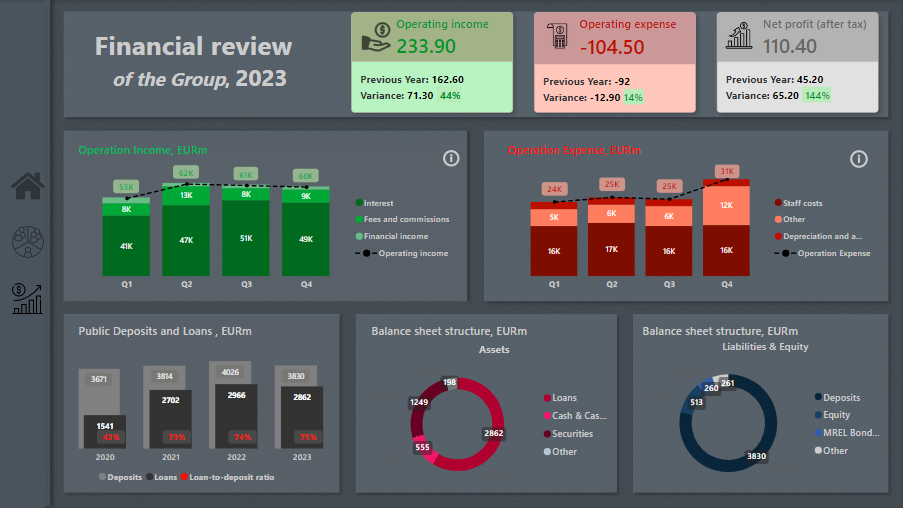

The dashboard page shown, as its layout file describes it:
{"tool":"powerbi","page":{"name":"Financial","canvas":[1280,720],"ordinal":2},"visuals":[{"type":"clusteredColumnChart","title":"Public Deposits and Loans , EURm","fields":{"Category":["Date.Year"],"Y":["Sum(Line. Deposits and borrowings from customers )","Sum(Line. Loans to public                   )","Sum(Line. Loan-to-deposit ratio             )"]},"box":[96,448,384,256],"z":0},{"type":"cardVisual","fields":{"Data":["Sum(KPI.Operating income           )","Sum(KPI.Operating expense          )","Sum(KPI.Net profit from continuous operations (after tax) )"]},"box":[480,0,784,176],"z":1000},{"type":"pieChart","title":"Balance sheet structure, EURm","fields":{"Y":["Sum(Liabilities& Equity2023.Deposits)","Sum(Liabilities& Equity2023.Equity)","Sum(Liabilities& Equity2023.MREL Bonds & Subordinated deb)","Sum(Liabilities& Equity2023.Other)"]},"box":[896,448,368,256],"z":2000},{"type":"textbox","box":[80,16,400,160],"z":3000},{"type":"lineStackedColumnComboChart","title":"Operation Expense, EURm","fields":{"Y":["Sum(OE. Staff costs           )","Sum(OE. Other operating ex... )","Sum(OE. Depreciation and a... )"],"Category":["OE.Quarter"],"Y2":["Sum(OE.Operation Expense)"]},"box":[704,192,560,240],"z":4000},{"type":"pieChart","title":"Balance sheet structure, EURm","fields":{"Y":["Sum(Liabilities& Equity2023.Deposits)","Sum(Liabilities& Equity2023.Equity)","Sum(Liabilities& Equity2023.MREL Bonds & Subordinated deb)","Sum(Liabilities& Equity2023.Other)"]},"box":[912,512,240,176],"z":5000},{"type":"lineStackedColumnComboChart","title":"Operation Income, EURm","fields":{"Category":["Balance Sheet 2023.Quarter"],"Y":["Sum(Balance Sheet 2023. Net interest income)","Sum(Balance Sheet 2023. Net fee and commission income)","Sum(Balance Sheet 2023. Net financial income )"],"Y2":["Sum(Balance Sheet 2023. Operating income      )"]},"box":[96,192,576,240],"z":6000},{"type":"pieChart","title":"Balance sheet structure, EURm","fields":{"Y":["Sum(Assets2023 (2).Loans)","Sum(Assets2023 (2). Cash and cash balances at...      )","Sum(Assets2023 (2).Securities)","Sum(Assets2023 (2).Other)"]},"box":[512,448,368,256],"z":6500},{"type":"donutChart","title":"Balance sheet structure, EURm","fields":{"Y":["Sum(Assets2023 (2).Loans)","Sum(Assets2023 (2). Cash and cash balances at...      )","Sum(Assets2023 (2).Securities)","Sum(Assets2023 (2).Other)"]},"box":[512,512,256,176],"z":7000},{"type":"actionButton","box":[624,208,32,32],"z":9000},{"type":"actionButton","box":[16,240,48,48],"z":10000,"group":"g1"},{"type":"actionButton","box":[1200,208,34,34],"z":10000},{"type":"actionButton","box":[16,400,47,47],"z":11000,"group":"g1"},{"type":"card","fields":{"Values":["Details.Blank"]},"box":[624,192,32,48],"z":11000},{"type":"actionButton","box":[16,320,48,48],"z":12000,"group":"g1"},{"type":"card","fields":{"Values":["Details.Blank"]},"box":[1200,208,32,32],"z":12000},{"type":"shape","box":[0,0,64,720],"z":13000},{"type":"group","id":"g1","title":"Group 1","box":[16,240,48,207],"z":14000}]}

Visuals, with their boxes on the page's 1280x720 design canvas (x1, y1, x2, y2). These are canvas units, not pixel positions in the 903x508 screenshot, which may show the page scaled, cropped or inside an application window:
"Public Deposits and Loans , EURm" clusteredColumnChart: 96,448,480,704
cardVisual - Sum(KPI.Operating income           ) x Sum(KPI.Operating expense          ): 480,0,1264,176
"Balance sheet structure, EURm" pieChart: 896,448,1264,704
textbox: 80,16,480,176
"Operation Expense, EURm" lineStackedColumnComboChart: 704,192,1264,432
"Balance sheet structure, EURm" pieChart: 912,512,1152,688
"Operation Income, EURm" lineStackedColumnComboChart: 96,192,672,432
"Balance sheet structure, EURm" pieChart: 512,448,880,704
"Balance sheet structure, EURm" donutChart: 512,512,768,688
actionButton: 624,208,656,240
actionButton: 16,240,64,288
actionButton: 1200,208,1234,242
actionButton: 16,400,63,447
card - Details.Blank: 624,192,656,240
actionButton: 16,320,64,368
card - Details.Blank: 1200,208,1232,240
shape: 0,0,64,720
"Group 1" group: 16,240,64,447
